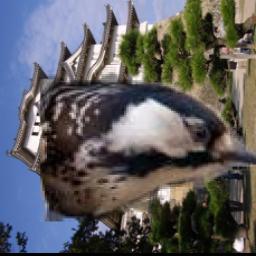Woodpecker: (40, 71, 256, 222)
